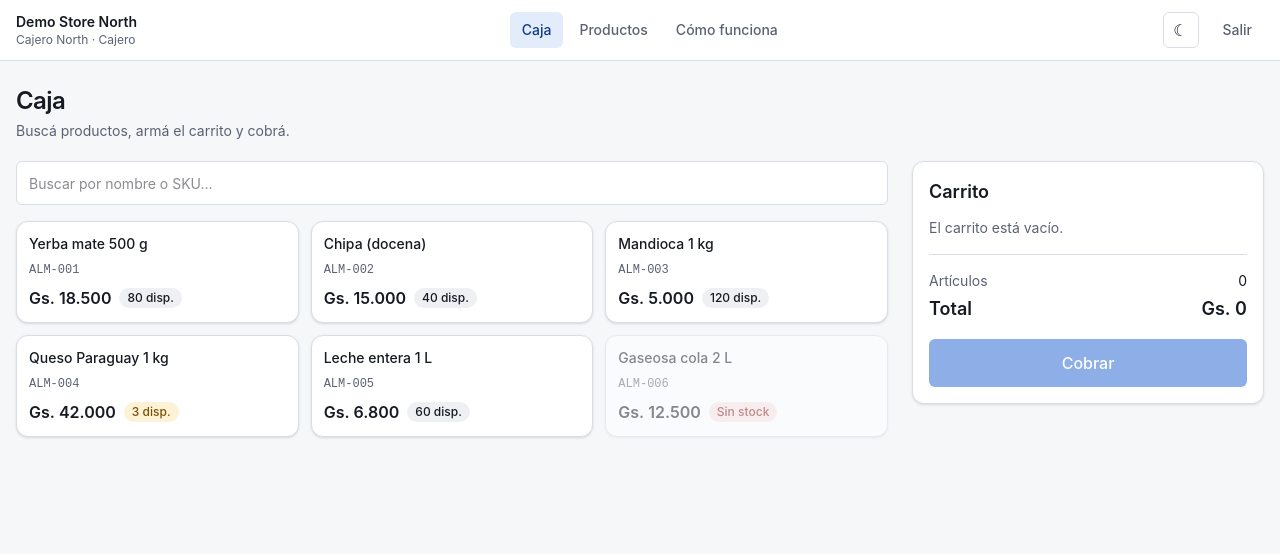
Test case: POS › shows other checkout errors
Expected: the text "Yerba mate 500 g" is shown, top-left (29, 234), bottom-right (148, 254)
Click the button with aria-label "Agregar Mandioca" at (666, 244), box top-left (605, 221), bottom-right (888, 323)
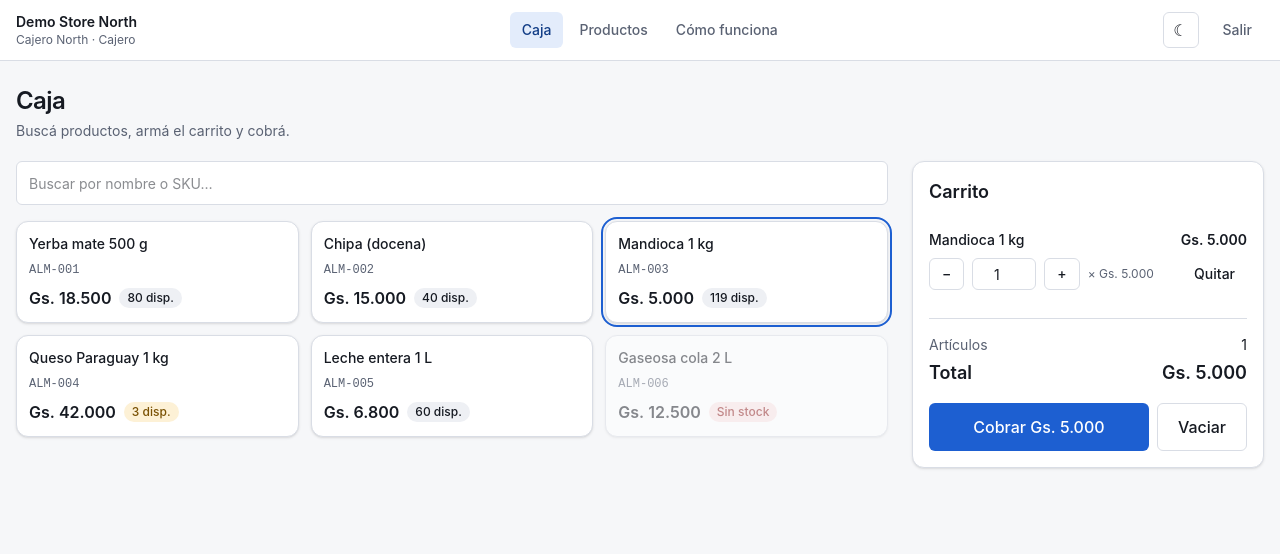
Click the button "Cobrar Gs. 5.000" at (1039, 427), box top-left (929, 403), bottom-right (1149, 451)
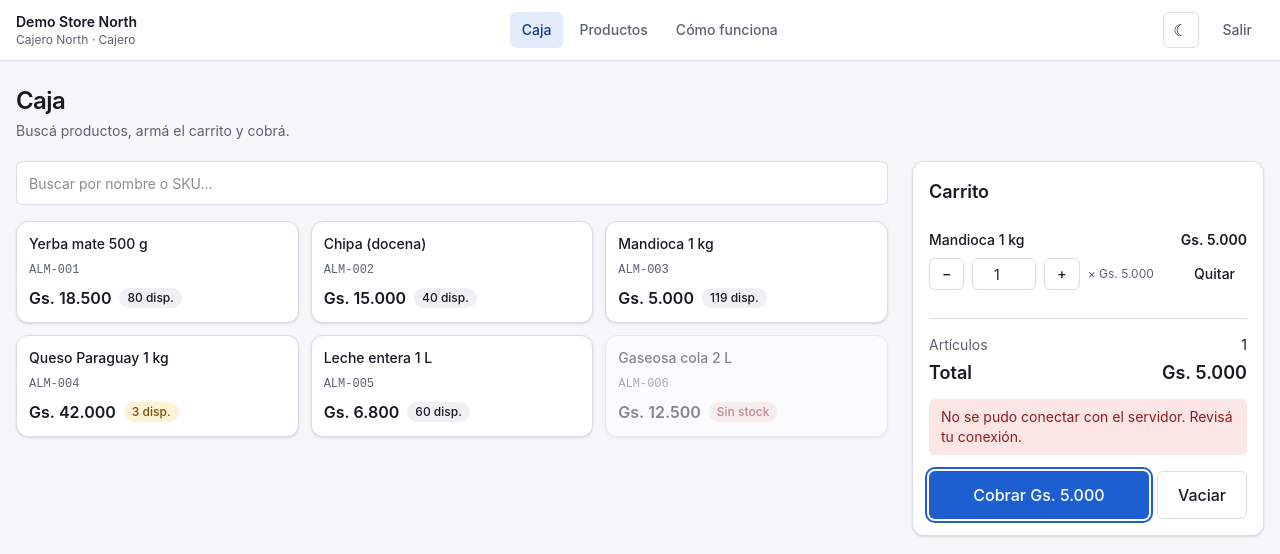
Expected: the text "No se pudo conectar con el servidor. Revisá tu conexión." is shown, top-left (929, 399), bottom-right (1247, 455)
